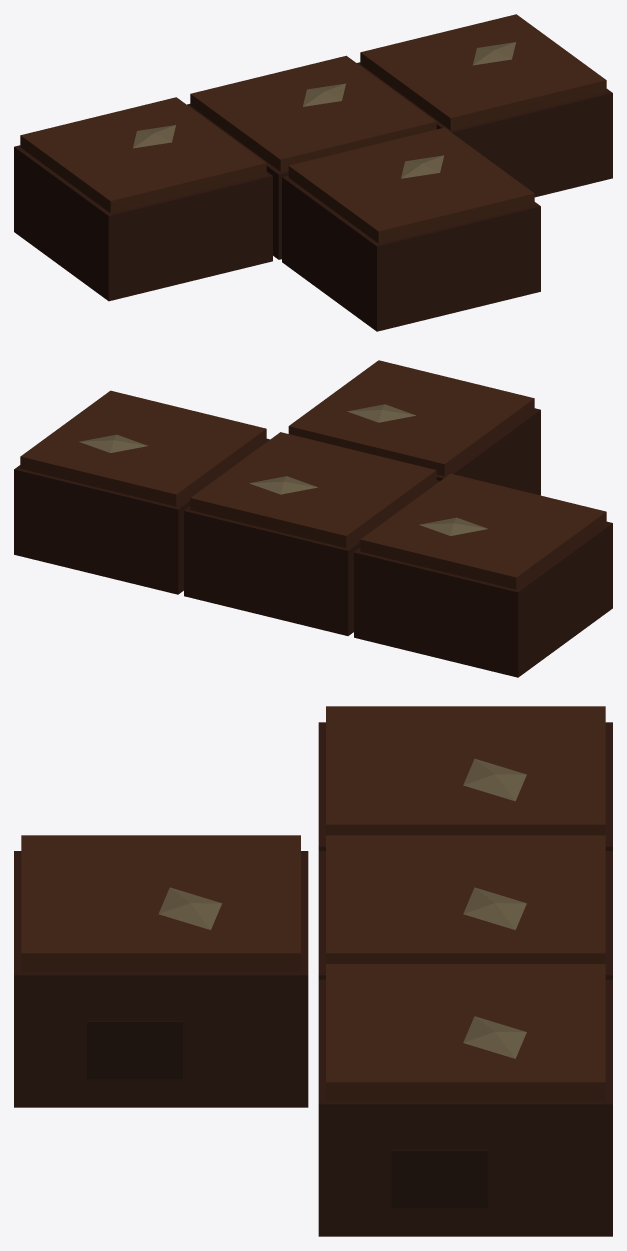
Rendered from pile-mud-4.obj.
The picture shows the model from 3 angles, top to bottom: view 1: azimuth 30°, elevation 25°; view 2: azimuth 150°, elevation 25°; view 3: azimuth 270°, elevation 25°; orthographic projection. The views are drawn at different scales.
Parts seen in each view (by area): view 1: pile-mud-4; view 2: pile-mud-4; view 3: pile-mud-4.
Part boxes in pixels (x1=…): pile-mud-4: x1=14, y1=14, x2=612, y2=331; pile-mud-4: x1=14, y1=360, x2=612, y2=677; pile-mud-4: x1=14, y1=706, x2=612, y2=1236.
Size of the model in its own units: 0.869 by 0.167 by 0.574.
Materials: 1 (1 with a texture image).
